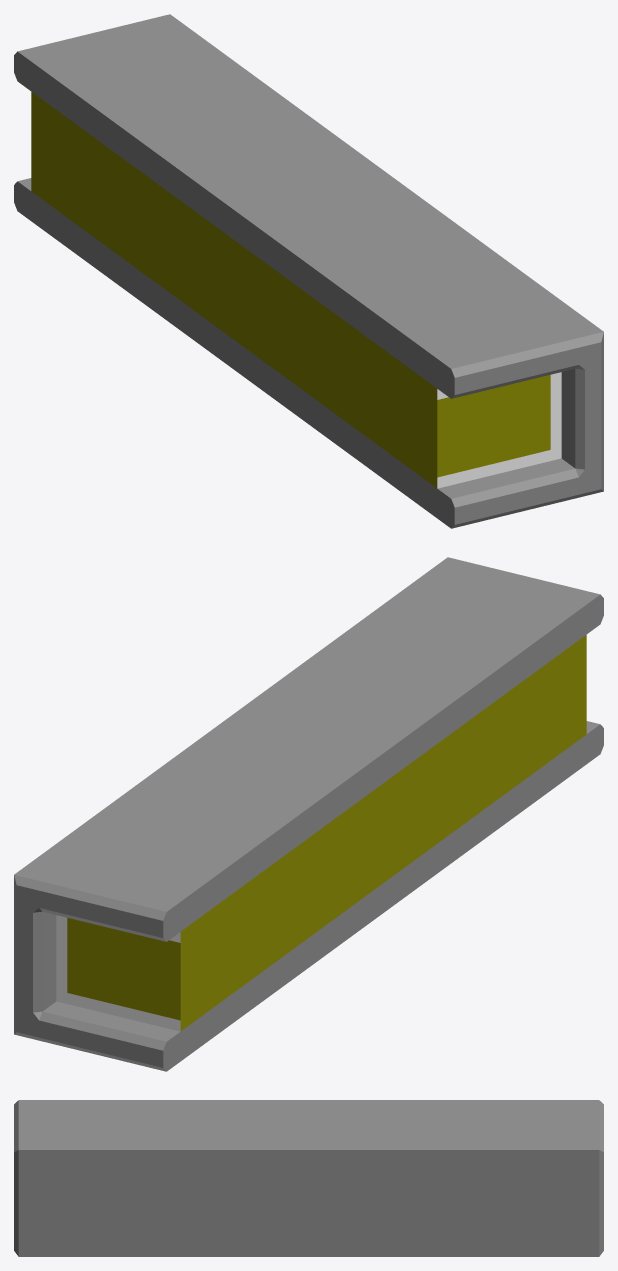
File: Mesh_Levelblock_Cube2_End.FBX
3 views of the same model, one above another, from view 1: azimuth 30°, elevation 25°; view 2: azimuth 150°, elevation 25°; view 3: azimuth 270°, elevation 25° (orthographic). The views are drawn at different scales.
Visible parts, largest first — view 1: Mesh_BlockEdge2; view 2: Mesh_BlockEdge2; view 3: Mesh_BlockEdge2.
Part boxes in pixels (box(x1,y1,x2,y2)): Mesh_BlockEdge2: box(14, 14, 603, 528); Mesh_BlockEdge2: box(14, 557, 603, 1071); Mesh_BlockEdge2: box(14, 1100, 603, 1256).
Bounding box in the file's own units: 2 × 2 × 10.
